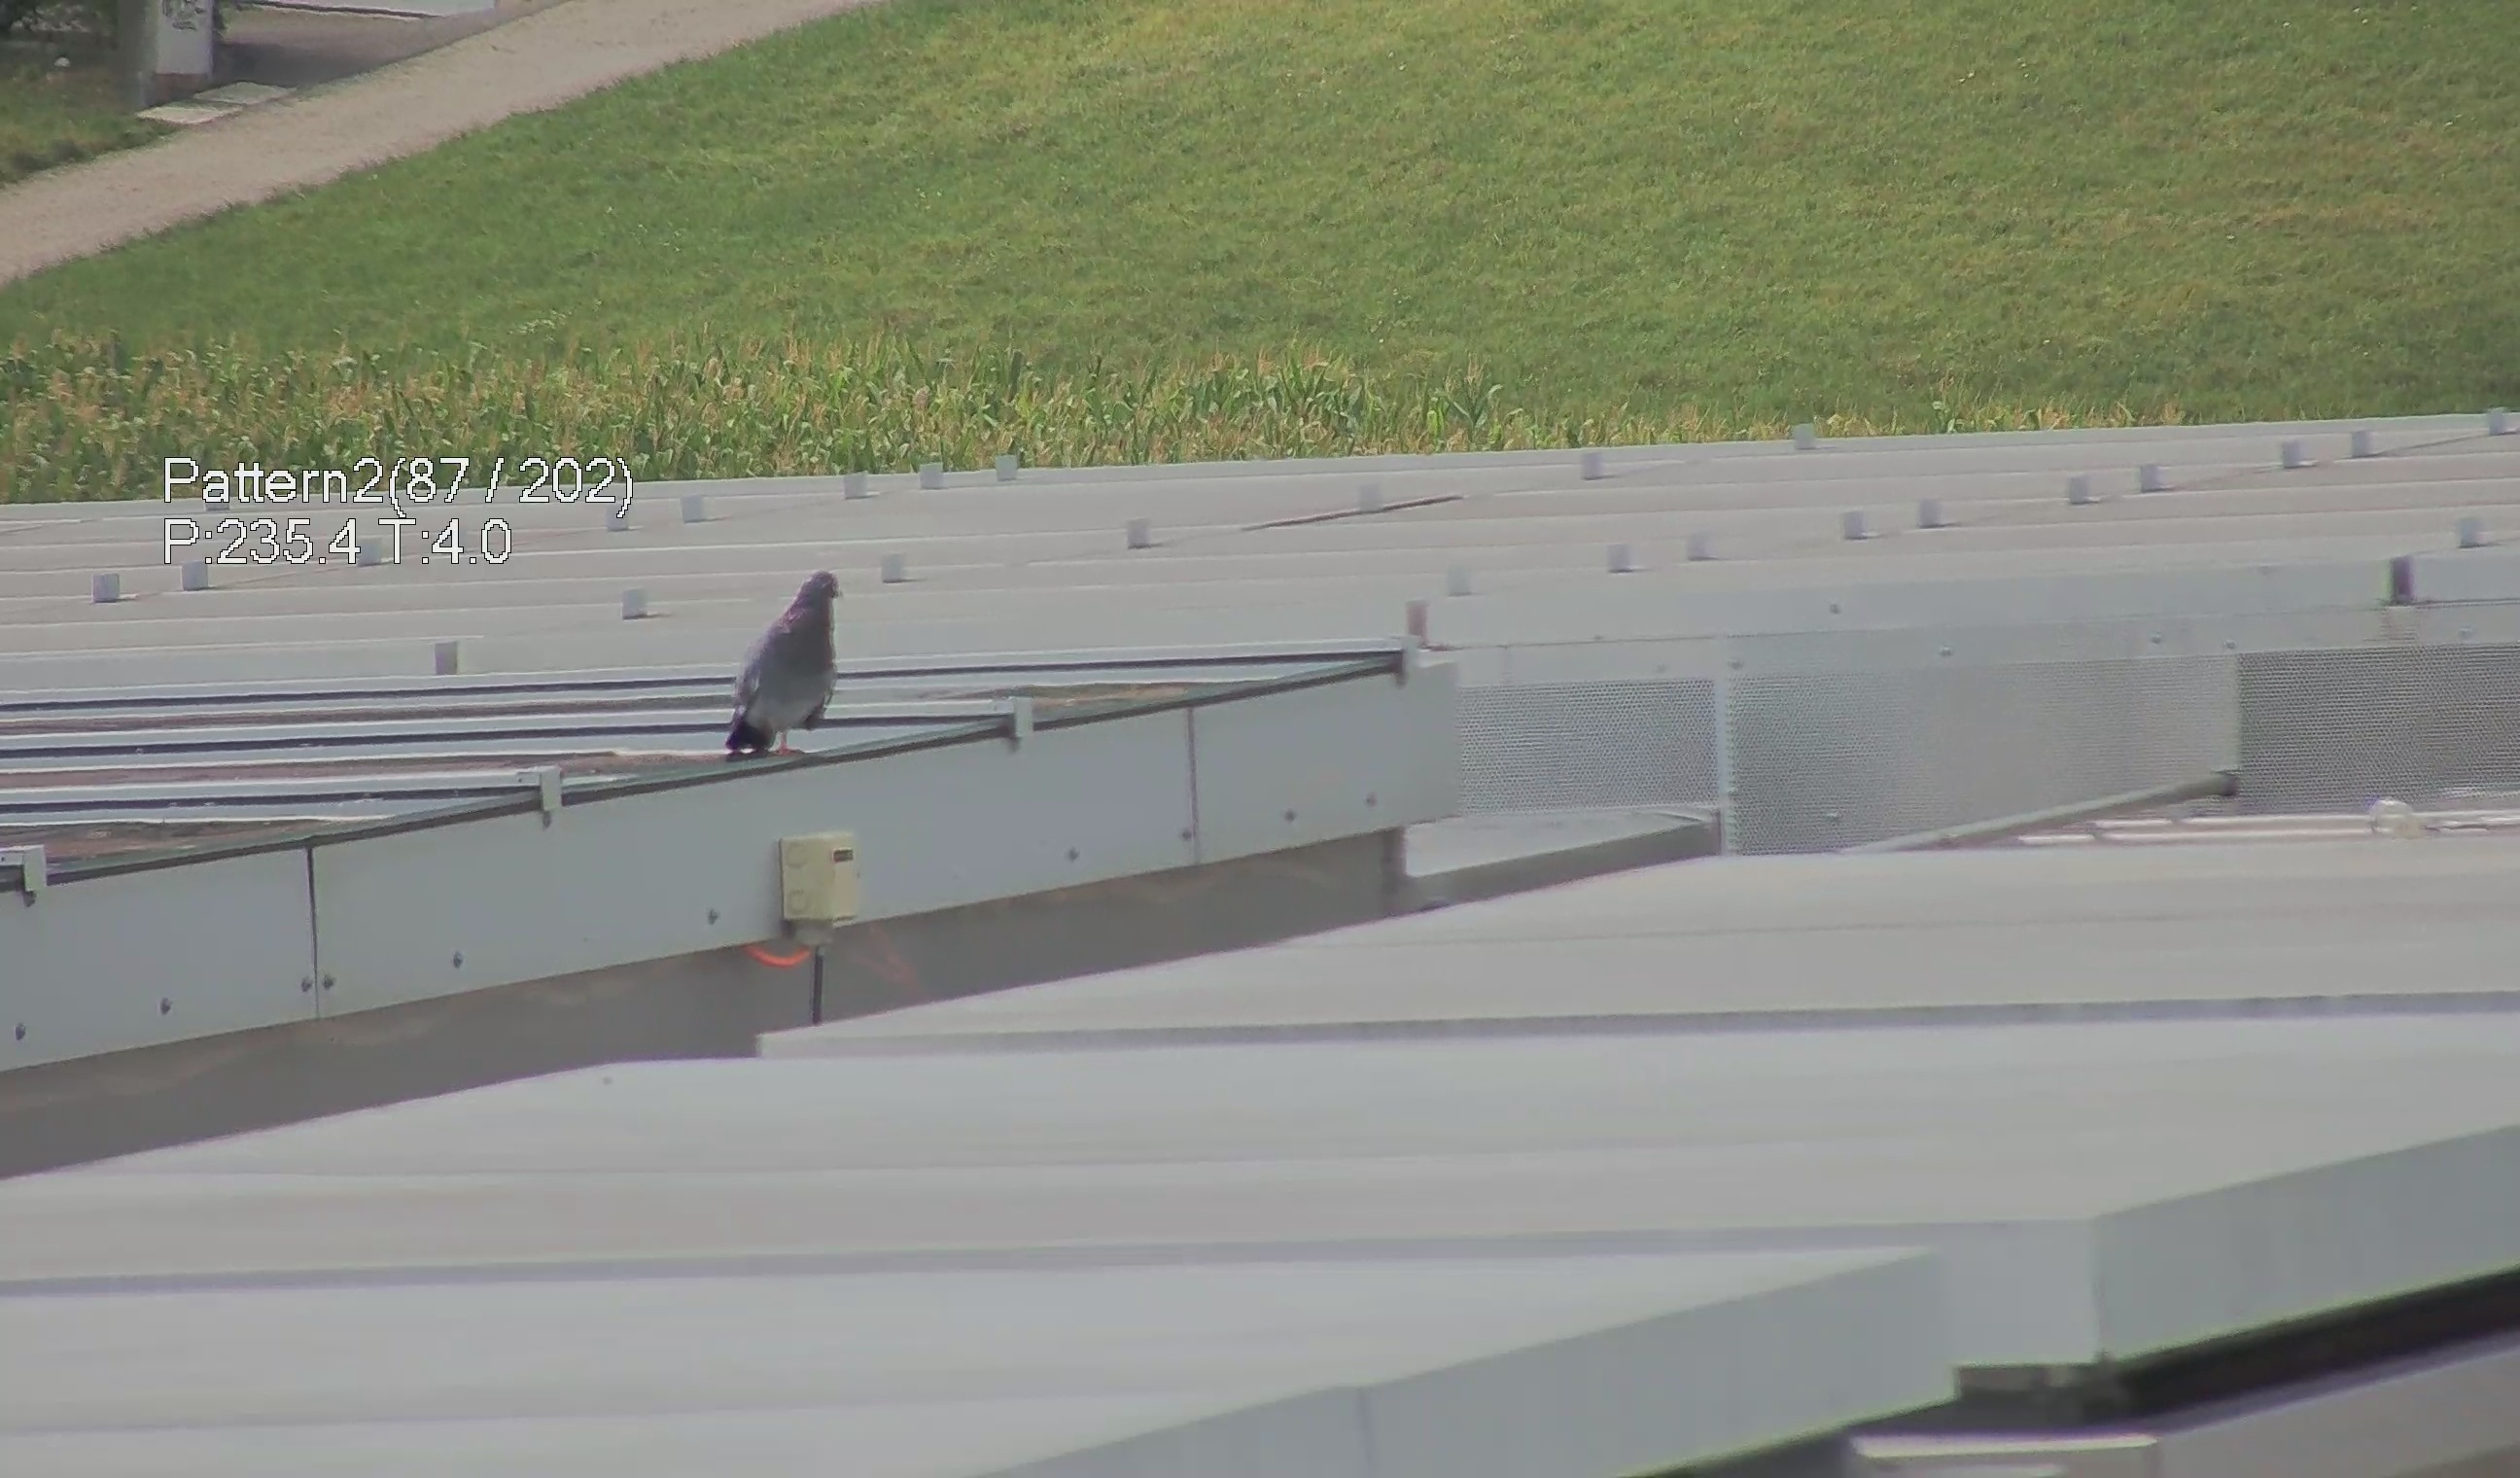Pigeon: (707, 558, 844, 760)
